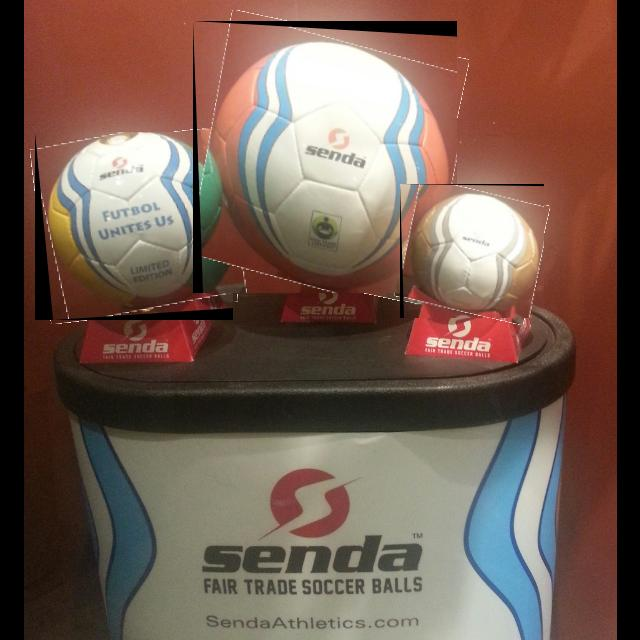Football: (193, 21, 457, 293), (35, 132, 233, 320), (400, 184, 544, 318)
